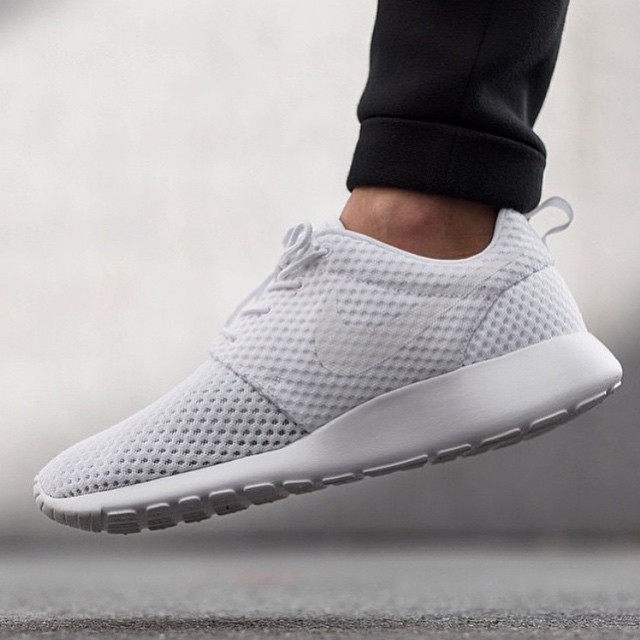sneaker: (12, 159, 640, 564)
